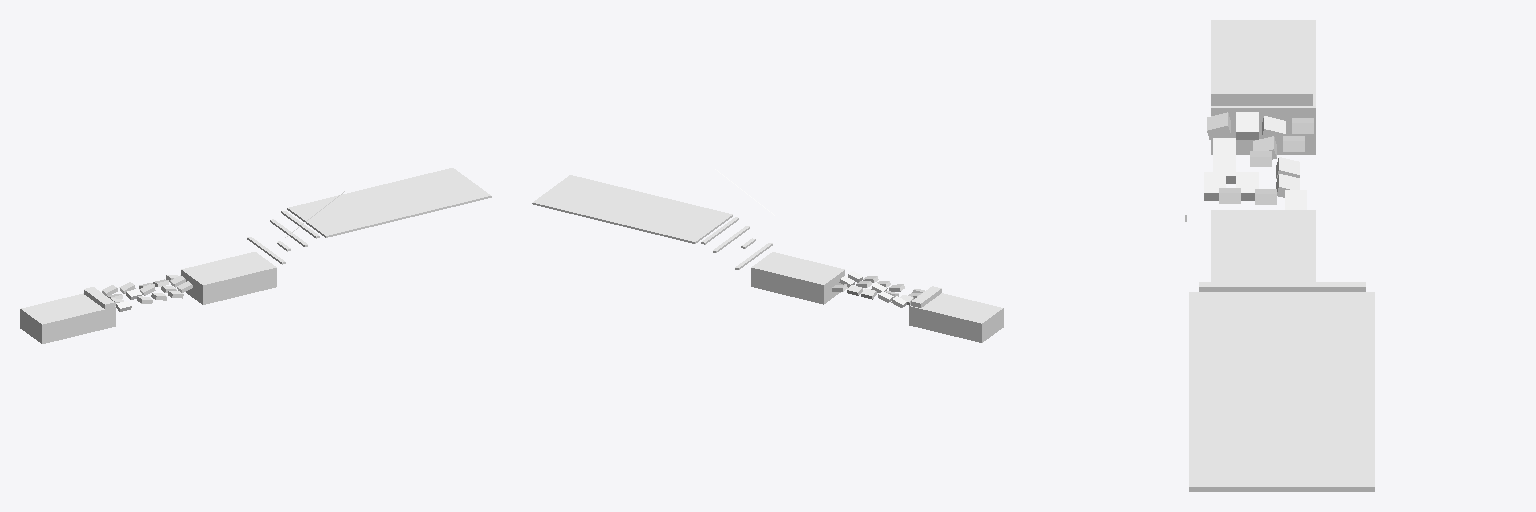
robot.urdf — race_3:
<robot name="race_3">
  <link name="base_link">
    <visual>
      <origin xyz="0 0 0" rpy="0 0 0" />
      <geometry>
        <mesh filename="package://hpp-rbprm-corba/meshes/race_3.stl"/>
      </geometry>
      <material name="white">
        <color rgba="1 1 1 1"/>
      </material>
    </visual>
    <collision>
      <origin xyz="0 0 0" rpy="0 0 0" />
      <geometry>
        <mesh filename="package://hpp-rbprm-corba/meshes/race_3.stl"/>
      </geometry>
    </collision>
  </link>
</robot>

--- Facts derived from the render (not from the file) ---
Views: 3 orthographic renders of the robot side by side, from view 1: azimuth 30°, elevation 25°; view 2: azimuth 150°, elevation 25°; view 3: azimuth 270°, elevation 25°.
Robot: race_3 — 1 links, 0 joints (none); root link base_link; default pose: all joints at 0.
Visible links, largest first — view 1: base_link; view 2: base_link; view 3: base_link.
Link boxes in pixels (x1,y1,x2,y2): base_link: [20, 168, 491, 343]; base_link: [532, 169, 1003, 342]; base_link: [1185, 20, 1374, 491].
Size in the robot's own frame: 11.78 by 1.81 by 2.14 metres.
1 mesh visuals loaded from 1 distinct referenced files (1 binary STL).